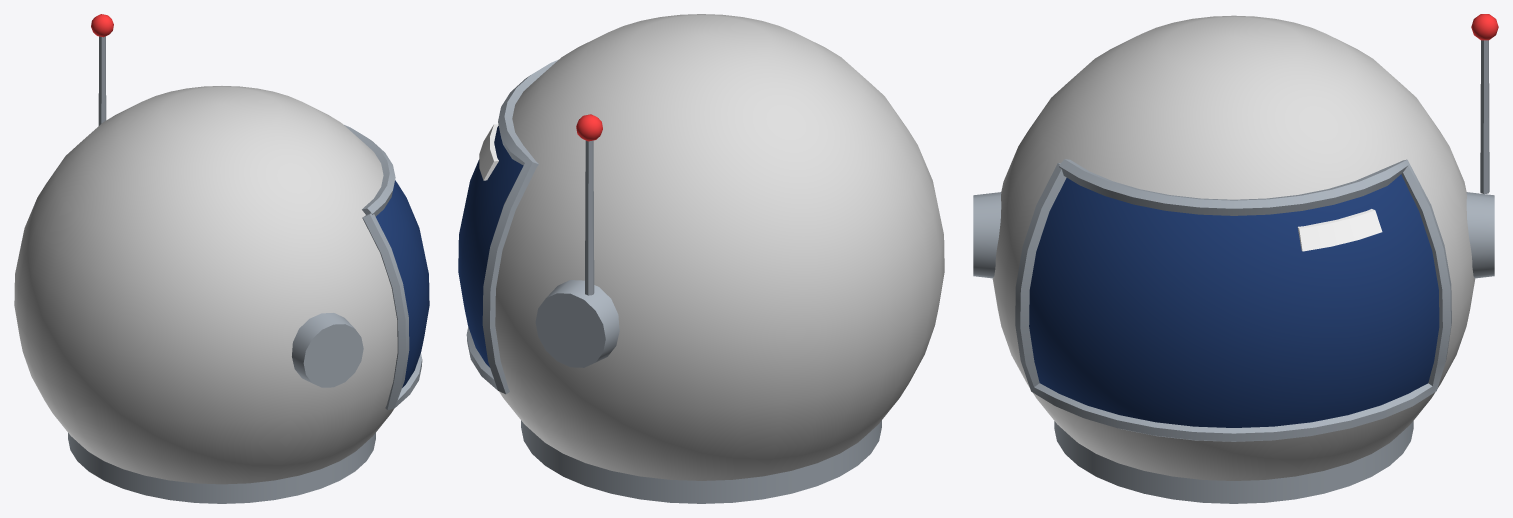
The model's file is acc_astro.glb.
3 views of the same model, side by side, from view 1: azimuth 30°, elevation 25°; view 2: azimuth 150°, elevation 25°; view 3: azimuth 270°, elevation 25° (orthographic). The views are drawn at different scales.
Visible parts, largest first — view 1: AstroHelmet; view 2: AstroHelmet; view 3: AstroHelmet.
Boxes of the visible parts, x1=… form: AstroHelmet: x1=14, y1=14, x2=429, y2=503; AstroHelmet: x1=458, y1=14, x2=944, y2=503; AstroHelmet: x1=973, y1=14, x2=1498, y2=503.
Size of the model in its own units: 0.5987 by 0.554 by 0.649.
